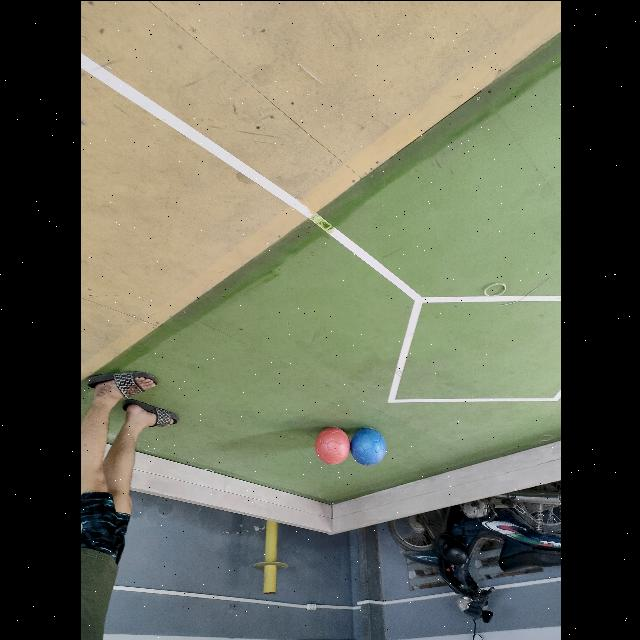B: (349, 427, 386, 464)
R: (314, 426, 349, 463)
